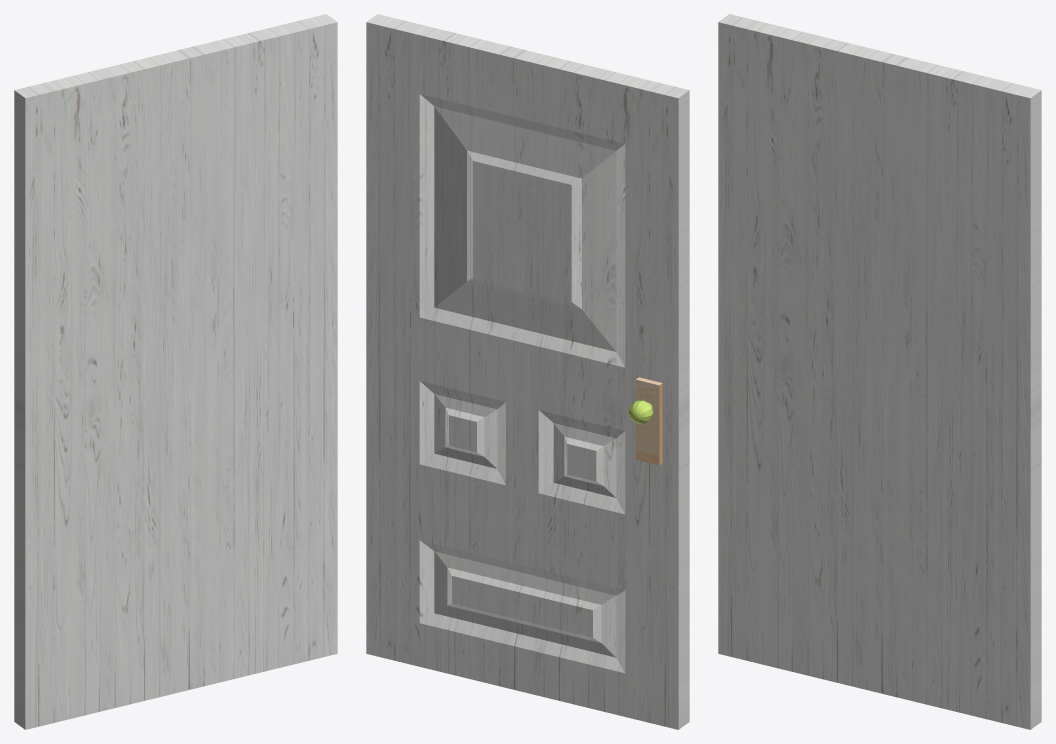
File: PuertaBA.obj
3 views of the same model, side by side, from view 1: azimuth 30°, elevation 25°; view 2: azimuth 150°, elevation 25°; view 3: azimuth 330°, elevation 25° (orthographic).
Parts seen in each view (by area): view 1: PuertaB:Box798; view 2: PuertaB:Box798; view 3: PuertaB:Box798.
Boxes of the visible parts, <box> form: PuertaB:Box798: <box>14,14,337,729</box>; PuertaB:Box798: <box>366,14,689,729</box>; PuertaB:Box798: <box>718,14,1041,729</box>.
Size of the model in its own units: 1.78 by 3.44 by 0.2687.
Materials: 3 (3 with a texture image).
